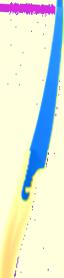Knife: (1, 1, 63, 278)
